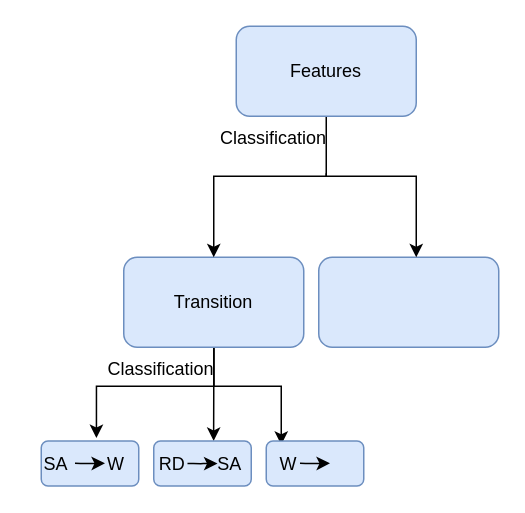
This 525x513 diagram has some shape labels left out. Each missing label, with the box of its shape:
SD: (265, 440, 364, 486)
Steady state: (317, 256, 499, 347)
